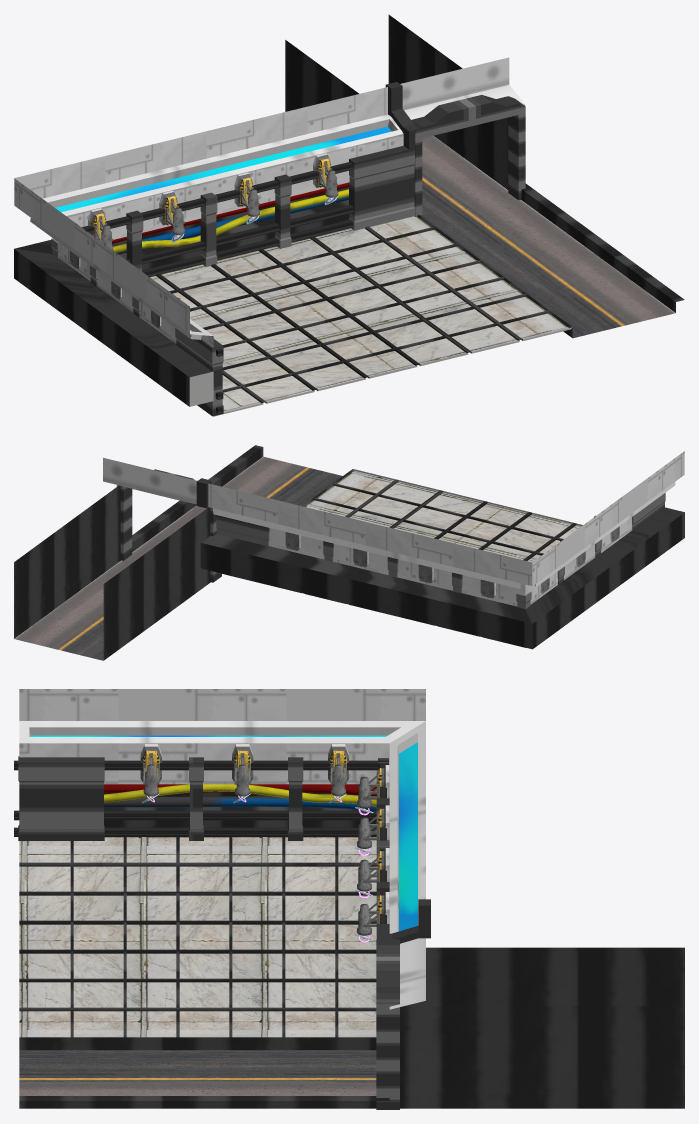
The model's file is Factory 10.fbx.
3 views of the same model, one above another, from view 1: azimuth 30°, elevation 25°; view 2: azimuth 150°, elevation 25°; view 3: azimuth 270°, elevation 25° (orthographic). The views are drawn at different scales.
Visible parts, largest first — view 1: Plane, Cube, Cube.003, Cube.008, Cube.001, Cube.009, Cube.002, BezierCurve.002, BezierCurve, Cube.005, Cube.007, Cube.006 (+2 smaller); view 2: Plane, Cube, Cube.003, Cube.001; view 3: Plane, Cube.001, Cube.003, Cube.008, Cube.002, Cube.009, BezierCurve, BezierCurve.002, Cube, BezierCurve.001, Cube.012, Cube.011 (+5 smaller).
Part boxes in pixels (<box>): Plane: <box>14,14,684,416</box>; Cube: <box>51,82,419,271</box>; Cube.003: <box>411,95,525,216</box>; Cube.008: <box>126,205,353,399</box>; Cube.001: <box>89,265,223,416</box>; Cube.009: <box>142,219,352,414</box>; Cube.002: <box>82,162,352,356</box>; BezierCurve.002: <box>113,189,348,252</box>; BezierCurve: <box>117,196,348,254</box>; Cube.005: <box>159,190,184,234</box>; Cube.007: <box>313,153,338,197</box>; Cube.006: <box>234,172,259,216</box>; Plane: <box>14,445,684,660</box>; Cube: <box>196,478,531,647</box>; Cube.003: <box>117,469,221,582</box>; Cube.001: <box>557,493,665,584</box>; Plane: <box>19,689,684,1108</box>; Cube.001: <box>18,756,303,840</box>; Cube.003: <box>376,939,399,1109</box>; Cube.008: <box>14,810,376,820</box>; Cube.002: <box>14,758,388,923</box>; Cube.009: <box>14,827,376,836</box>; BezierCurve: <box>104,796,376,810</box>; BezierCurve.002: <box>104,784,376,806</box>; Cube: <box>376,770,430,943</box>; BezierCurve.001: <box>104,784,376,796</box>; Cube.012: <box>232,744,253,796</box>; Cube.011: <box>140,744,161,796</box>.
Bounding box in the file's own units: 14791 × 3592 × 14983.
